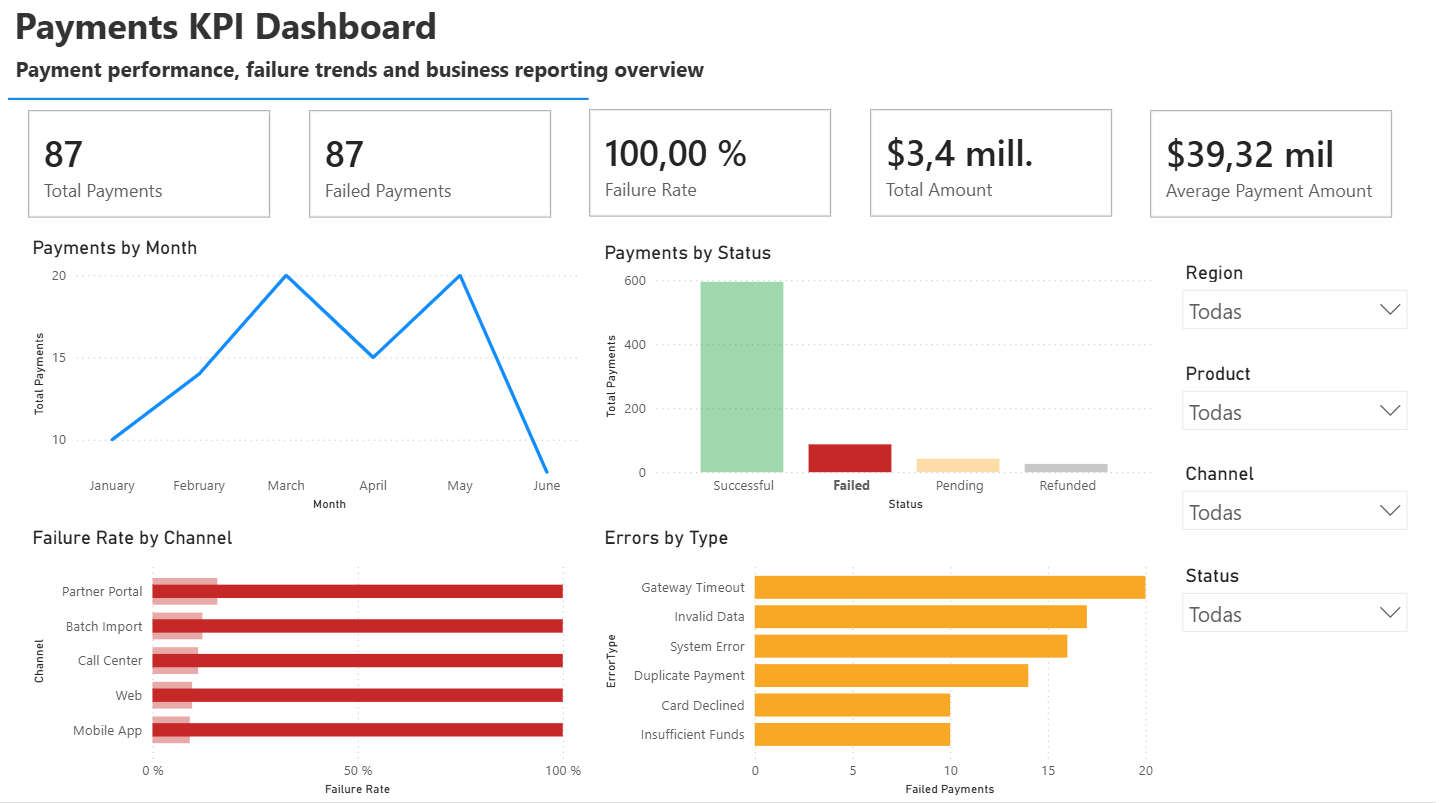

The dashboard page shown, as its layout file describes it:
{"tool":"powerbi","page":{"name":"Executive Overview","canvas":[1280,720],"ordinal":0},"visuals":[{"type":"textbox","box":[9.9,0,875.8,56.6],"z":0},{"type":"textbox","box":[10.4,49.1,875.7,59.4],"z":1000},{"type":"cardVisual","fields":{"Data":["Payments.Total Payments"]},"box":[9.9,86.4,250,130],"z":2000},{"type":"cardVisual","fields":{"Data":["Payments.Failed Payments"]},"box":[260.2,86.4,250.2,130.1],"z":3000},{"type":"cardVisual","fields":{"Data":["Payments.Failure Rate"]},"box":[510.4,85.4,250.2,130.1],"z":4000},{"type":"cardVisual","fields":{"Data":["Payments.Total Amount"]},"box":[760.7,85.4,250.2,130.1],"z":5000},{"type":"cardVisual","fields":{"Data":["Payments.Average Payment Amount"]},"box":[1010.9,86.4,250.2,130.1],"z":6000},{"type":"lineChart","title":"Payments by Month","fields":{"Category":["Payments.PaymentDate.Variación.Date Hierarchy.Month"],"Y":["Payments.Total Payments"]},"box":[25.8,215.5,500,250],"z":7000},{"type":"clusteredColumnChart","title":"Payments by Status","fields":{"Category":["Payments.Status"],"Y":["Payments.Total Payments"]},"box":[536.2,220.4,500.5,245.3],"z":8000},{"type":"clusteredBarChart","title":"Failure Rate by Channel","fields":{"Category":["Payments.Channel"],"Y":["Payments.Failure Rate"]},"box":[26,475,500,245],"z":9000},{"type":"clusteredBarChart","title":"Errors by Type","fields":{"Category":["Payments.ErrorType"],"Y":["Payments.Failed Payments"]},"box":[536.2,474.7,499.5,245.3],"z":10000},{"type":"slicer","fields":{"Values":["Payments.Region"]},"box":[1046.5,233.1,220.8,80],"z":11000},{"type":"slicer","fields":{"Values":["Payments.Product"]},"box":[1046.5,322.7,220.8,80.2],"z":12000},{"type":"slicer","fields":{"Values":["Payments.Channel"]},"box":[1046.5,412.3,220.8,80.2],"z":13000},{"type":"slicer","fields":{"Values":["Payments.Status"]},"box":[1046.5,503,220.8,80.2],"z":14000},{"type":"shape","box":[8.5,78.3,518.1,30.2],"z":15000}]}

Visuals, with their boxes in screenshot pixels (x1, y1, x2, y2), scaled from the page's 1280x720 canvas onto the 1447x803 screenshot:
textbox: Rect(11, 0, 1001, 63)
textbox: Rect(12, 55, 1002, 121)
cardVisual - Payments.Total Payments: Rect(11, 96, 294, 241)
cardVisual - Payments.Failed Payments: Rect(294, 96, 577, 241)
cardVisual - Payments.Failure Rate: Rect(577, 95, 860, 240)
cardVisual - Payments.Total Amount: Rect(860, 95, 1143, 240)
cardVisual - Payments.Average Payment Amount: Rect(1143, 96, 1426, 241)
"Payments by Month" lineChart: Rect(29, 240, 594, 519)
"Payments by Status" clusteredColumnChart: Rect(606, 246, 1172, 519)
"Failure Rate by Channel" clusteredBarChart: Rect(29, 530, 595, 802)
"Errors by Type" clusteredBarChart: Rect(606, 529, 1171, 802)
slicer - Payments.Region: Rect(1183, 260, 1433, 349)
slicer - Payments.Product: Rect(1183, 360, 1433, 449)
slicer - Payments.Channel: Rect(1183, 460, 1433, 549)
slicer - Payments.Status: Rect(1183, 561, 1433, 650)
shape: Rect(10, 87, 595, 121)
